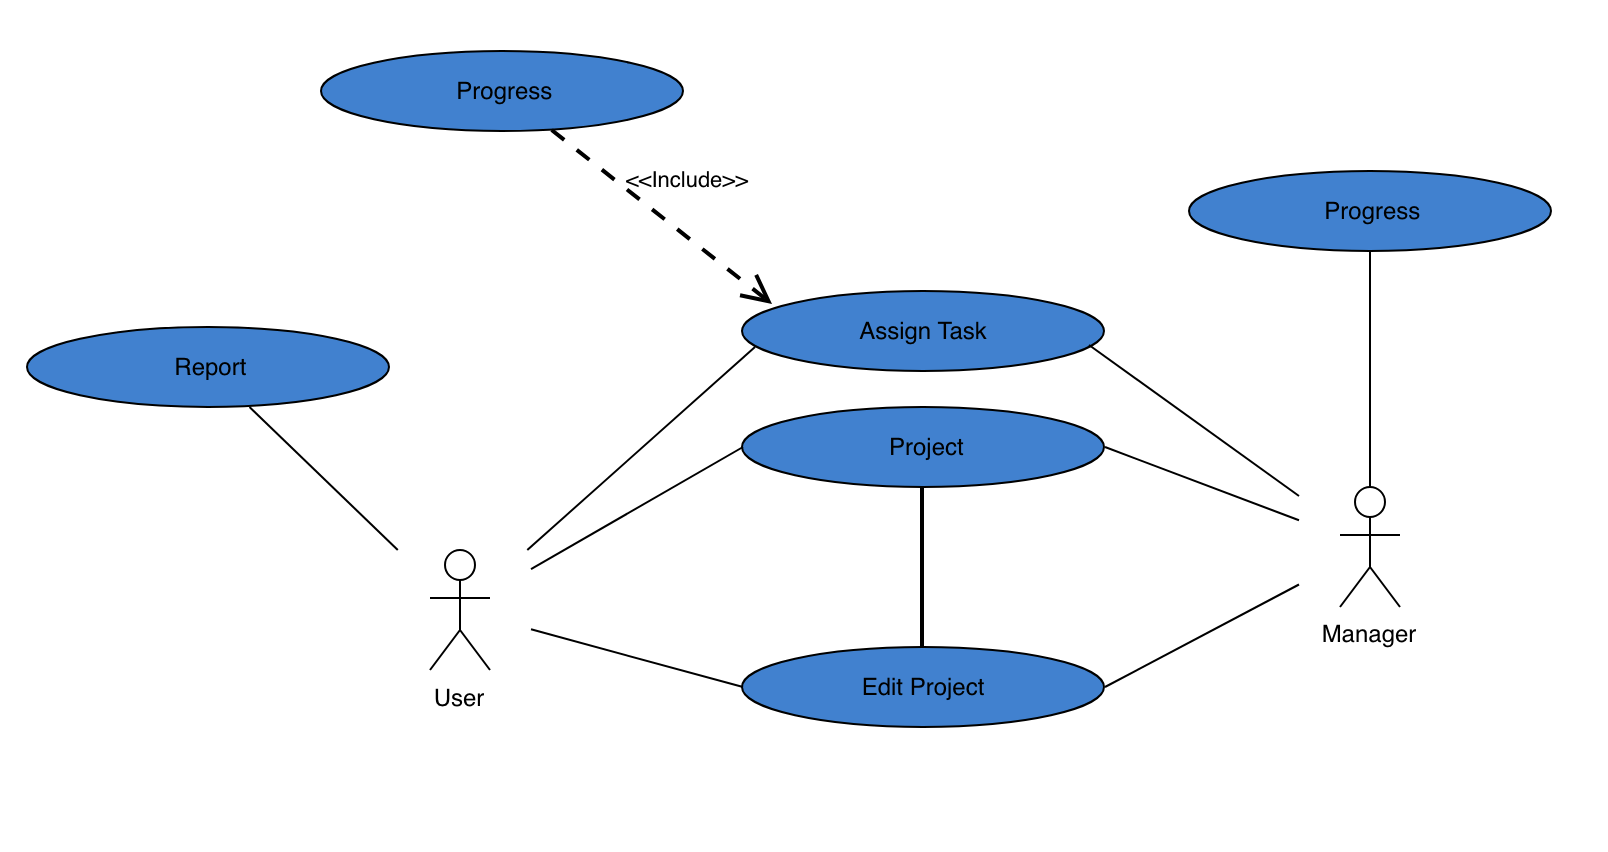actor: (426, 545, 493, 676), (1337, 486, 1405, 612)
association: (524, 347, 754, 551), (551, 130, 777, 305), (1092, 347, 1308, 500), (531, 446, 740, 568), (1107, 577, 1304, 689), (251, 406, 401, 553), (1106, 446, 1306, 522), (530, 624, 738, 688), (1349, 253, 1390, 486), (903, 487, 943, 644)
text: (852, 308, 999, 351), (855, 671, 996, 705), (453, 71, 566, 111), (1311, 616, 1423, 653), (621, 163, 756, 193), (1324, 196, 1433, 232), (169, 345, 261, 384), (878, 431, 973, 465), (422, 684, 498, 715)
use_case: (317, 45, 687, 135), (737, 644, 1112, 731), (1186, 168, 1554, 256), (740, 404, 1107, 491), (740, 288, 1106, 375), (24, 324, 393, 410)
